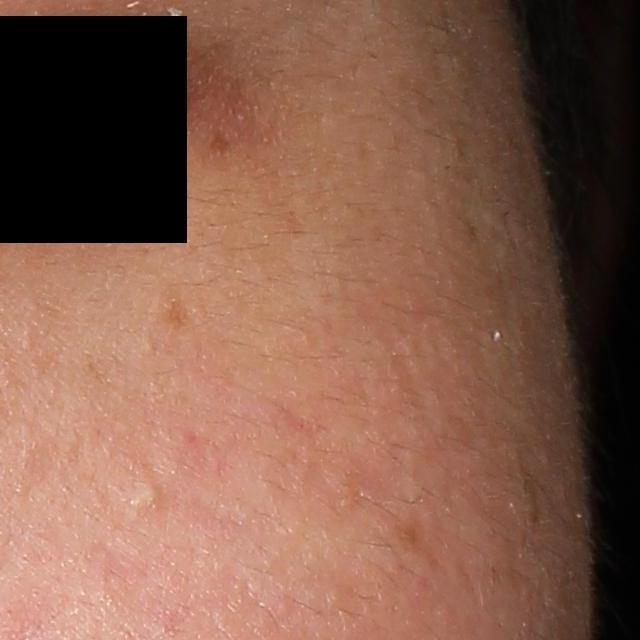comedo: (115, 471, 169, 521)
melasma: (145, 288, 203, 341), (199, 130, 238, 167)
